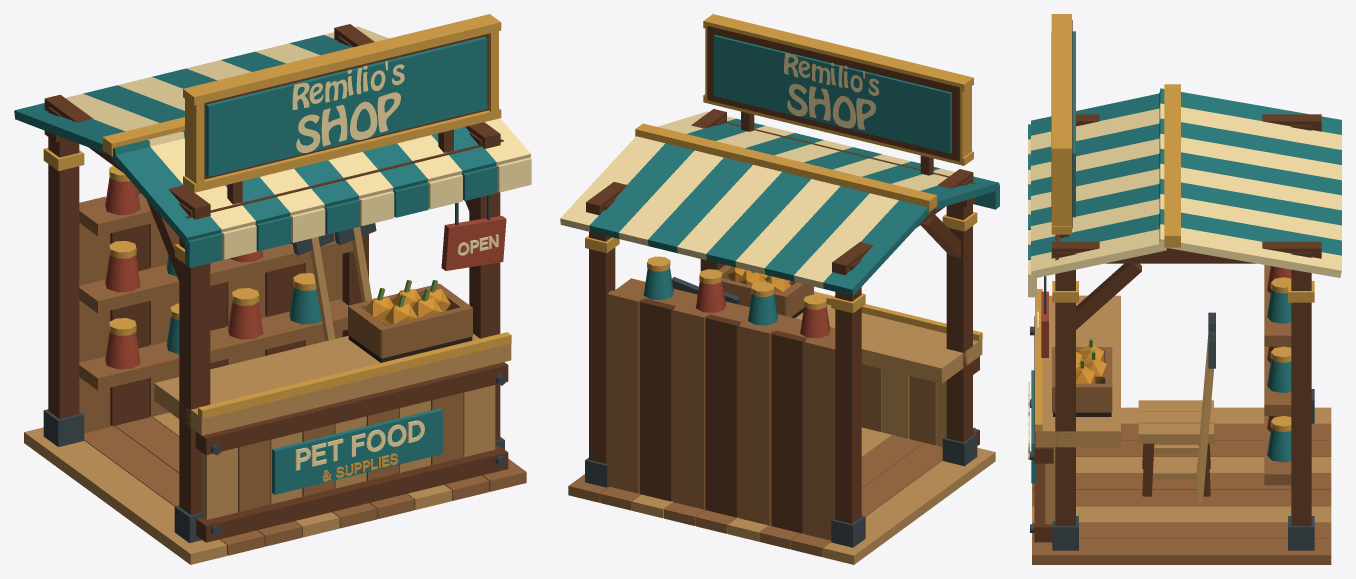
Rendered from shop_Remilio_GeneralStore_Hobo.glb.
3 renders of one model, left to right at view 1: azimuth 30°, elevation 25°; view 2: azimuth 150°, elevation 25°; view 3: azimuth 270°, elevation 25°, orthographic. The views are drawn at different scales.
Parts seen in each view (by area): view 1: Remilio storefront; view 2: Remilio storefront; view 3: Remilio storefront.
Boxes of the visible parts, x1=… form: Remilio storefront: x1=14, y1=14, x2=531, y2=564; Remilio storefront: x1=560, y1=14, x2=999, y2=564; Remilio storefront: x1=1028, y1=14, x2=1341, y2=564.
Size of the model in its own units: 2.82 by 3.55 by 2.46.
